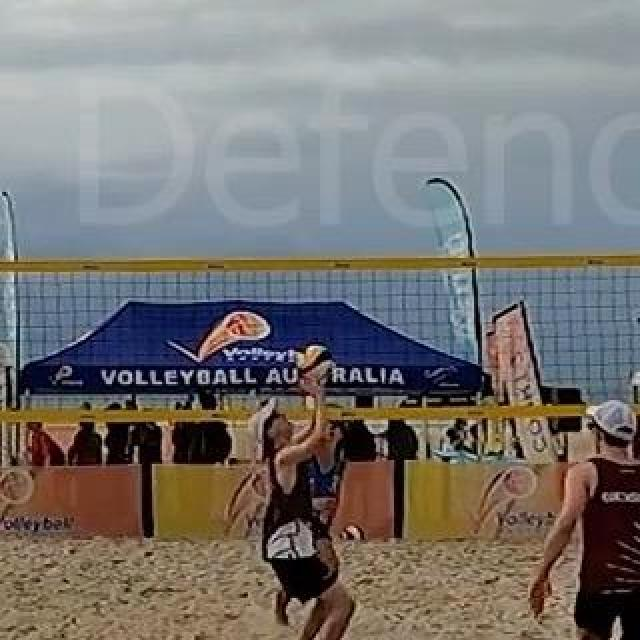volleyball: (299, 344, 331, 374)
